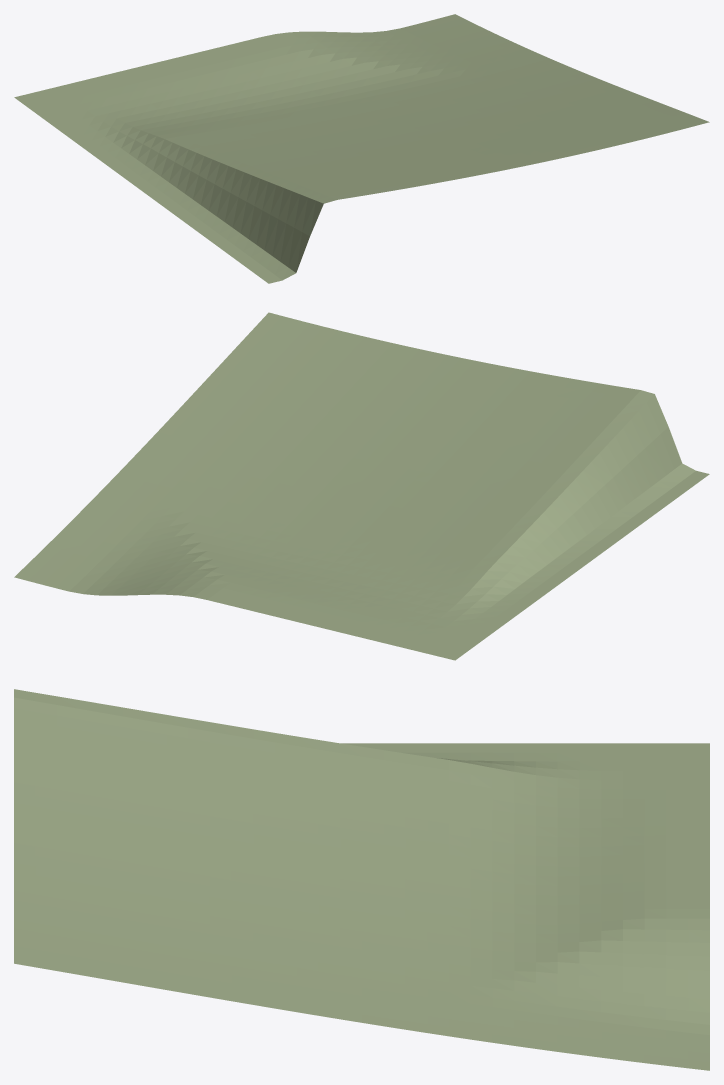
The model's file is valley-8-13.glb.
3 views of the same model, one above another, from view 1: azimuth 30°, elevation 25°; view 2: azimuth 150°, elevation 25°; view 3: azimuth 270°, elevation 25° (orthographic). The views are drawn at different scales.
Visible parts, largest first — view 1: valley-8-13; view 2: valley-8-13; view 3: valley-8-13.
Part boxes in pixels (bbox=[...]): valley-8-13: bbox=[14, 14, 709, 283]; valley-8-13: bbox=[14, 312, 709, 660]; valley-8-13: bbox=[14, 689, 709, 1070].
Bounding box in the file's own units: 256 × 51.22 × 256.
